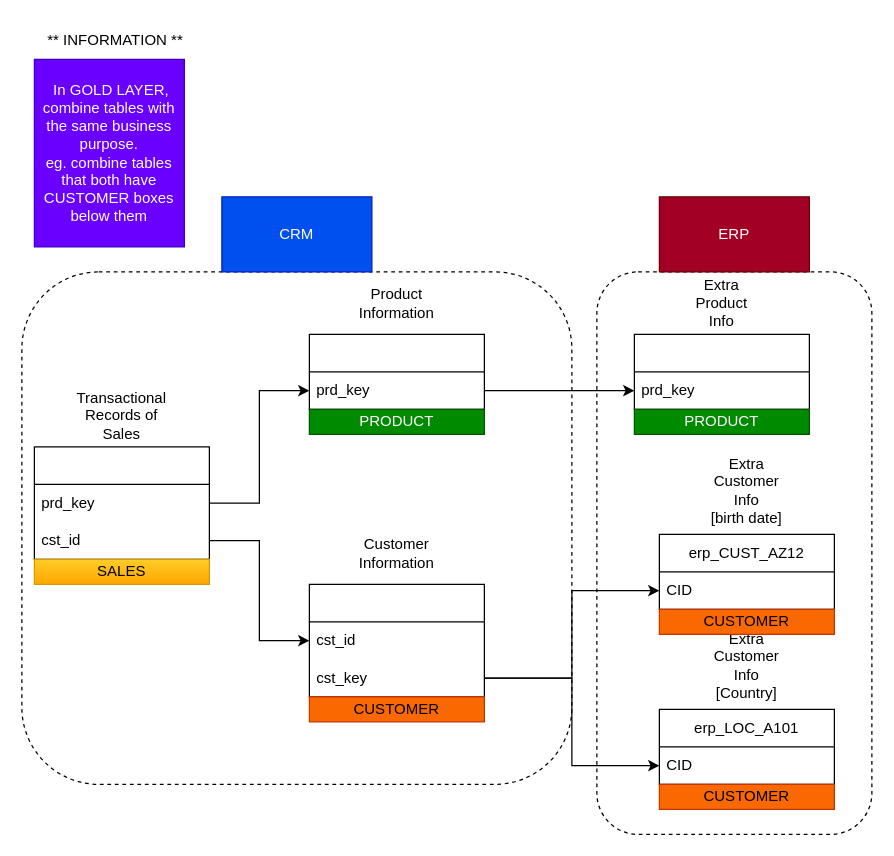
This 894x856 diagram has some shape labels left out. Each missing label, with the box of its shape:
crm_cust_info: (308, 583, 484, 697)
crm_prd_info: (308, 333, 484, 409)
crm_sales_details: (33, 446, 209, 559)
erp_PX_CAT_G1V2: (633, 333, 809, 409)
